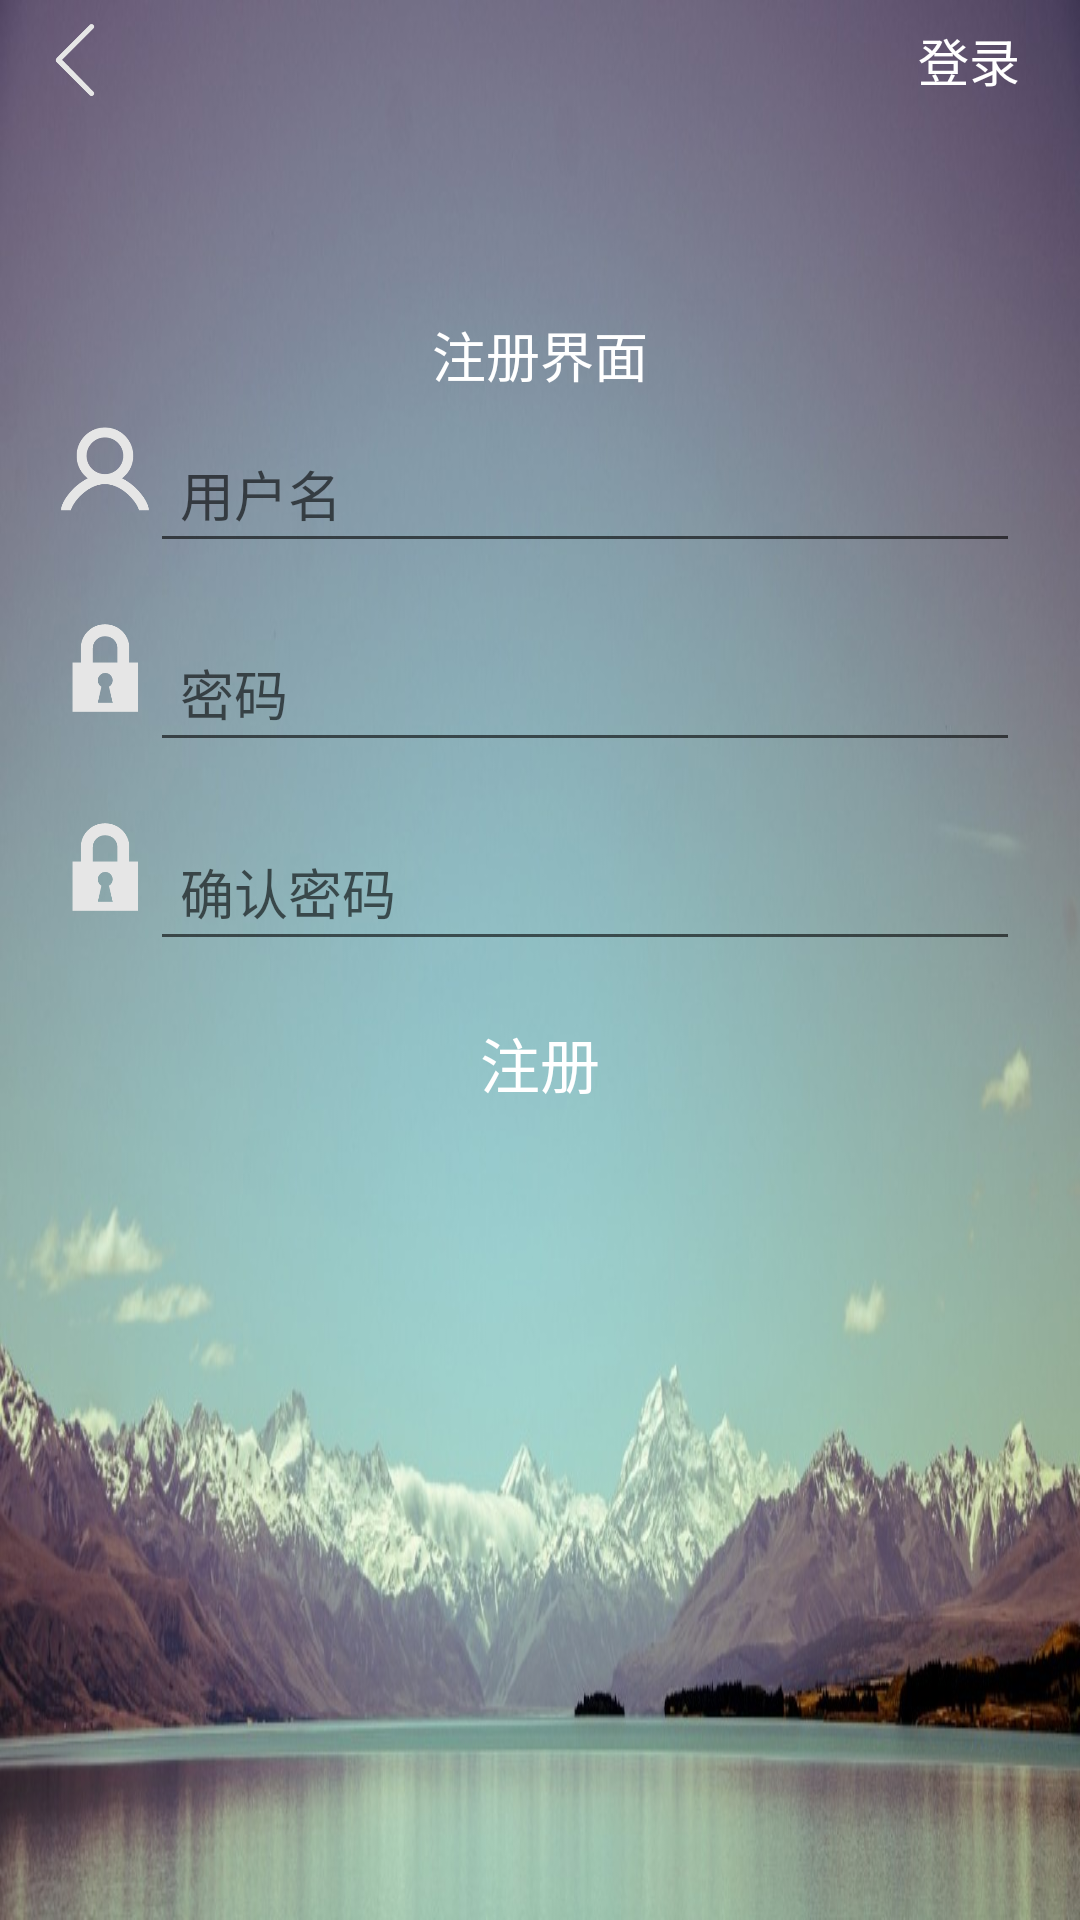

Screen size 1080 × 1920. Icon name, then its box in pixels as [x1=x1, y1=y1, x2=x2, y2=y2]:
fanhui: [x1=56, y1=24, x2=94, y2=96]
yonghu: [x1=61, y1=427, x2=149, y2=511]
